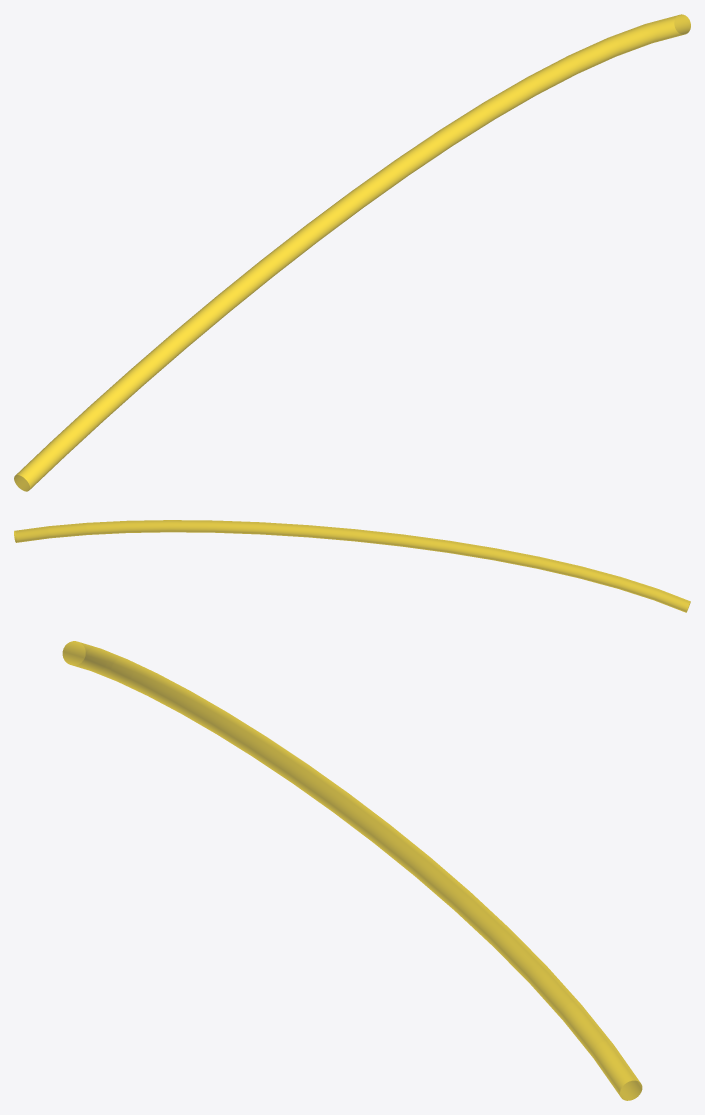
File: Event_27938768_track_66.fbx
The picture shows the model from 3 angles, top to bottom: view 1: azimuth 30°, elevation 25°; view 2: azimuth 150°, elevation 25°; view 3: azimuth 270°, elevation 25°; orthographic projection. The views are drawn at different scales.
Parts seen in each view (by area): view 1: Model; view 2: Model; view 3: Model.
Boxes of the visible parts, bbox=[...] form: Model: bbox=[14, 14, 690, 491]; Model: bbox=[14, 520, 690, 612]; Model: bbox=[62, 641, 642, 1100].
Bounding box in the file's own units: 2.02 × 0.2532 × 0.9423.
